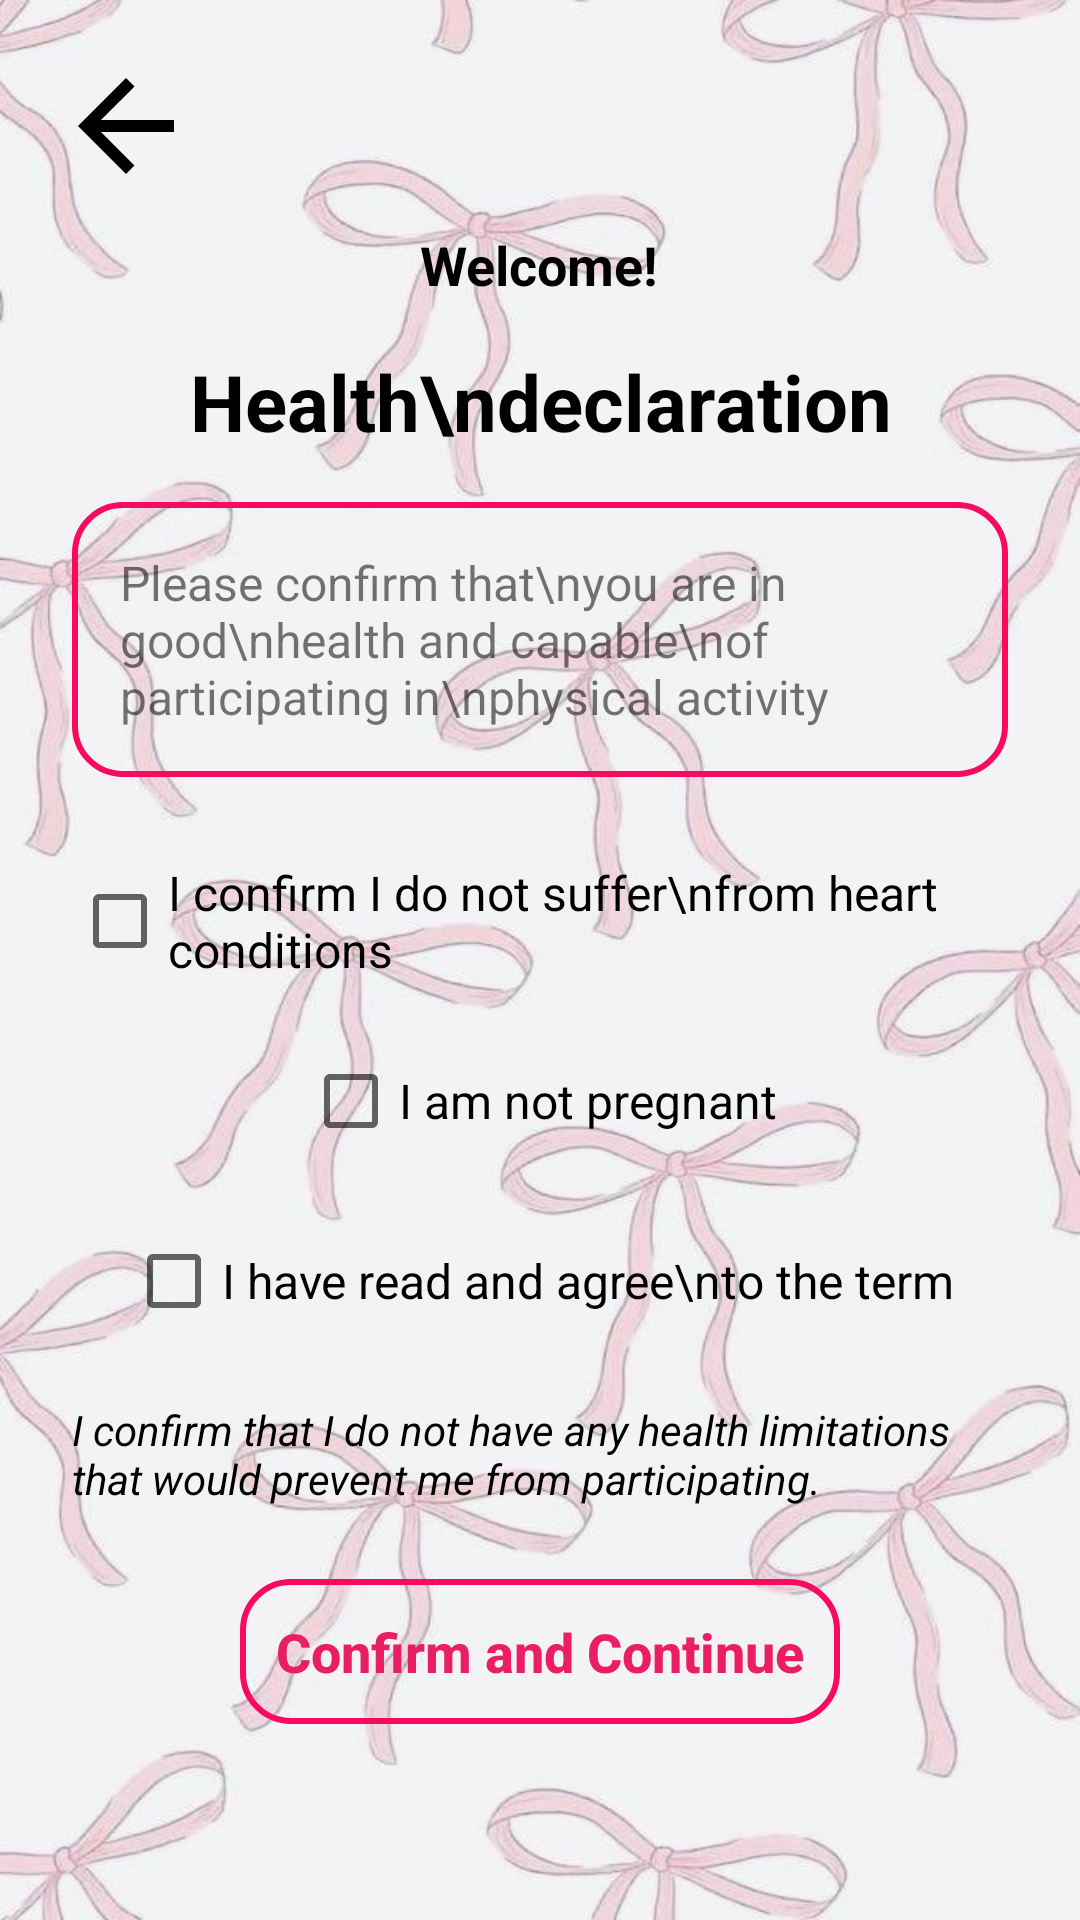

Icon click points for this 1080w x 1920h phone screenshot, format [x,y]:
Back: [126,126]
